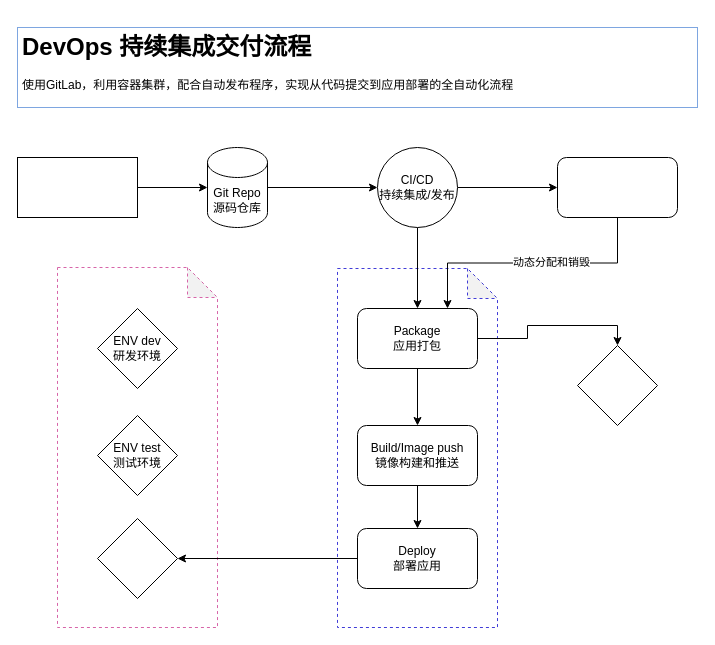
Some shapes in this 715 by 645 pixel diagram are drawn without their labels. Here are the shapes that lost their labels. From the top down, the centre of each, then its label:
pixel 77 187: Developer 开发者
pixel 617 187: Build/Package Cluster 构建集群
pixel 617 385: Image repo 镜像仓库
pixel 137 558: ENV prod 生产环境
